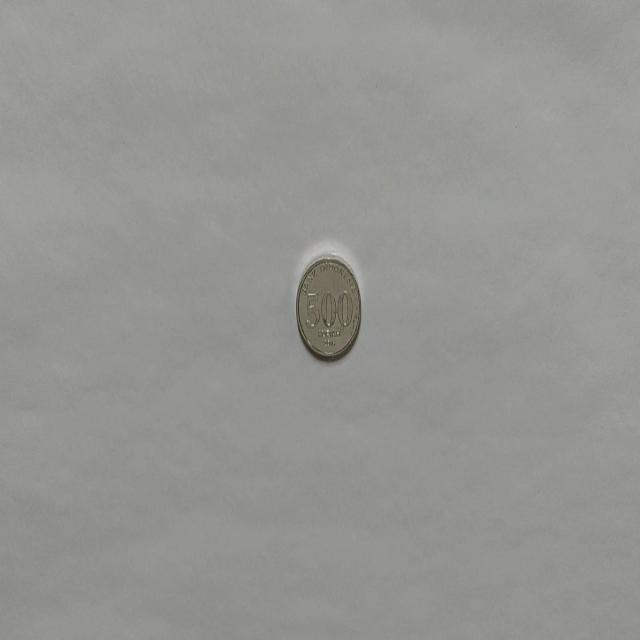lima ratus rupiah: (294, 252, 362, 360)
